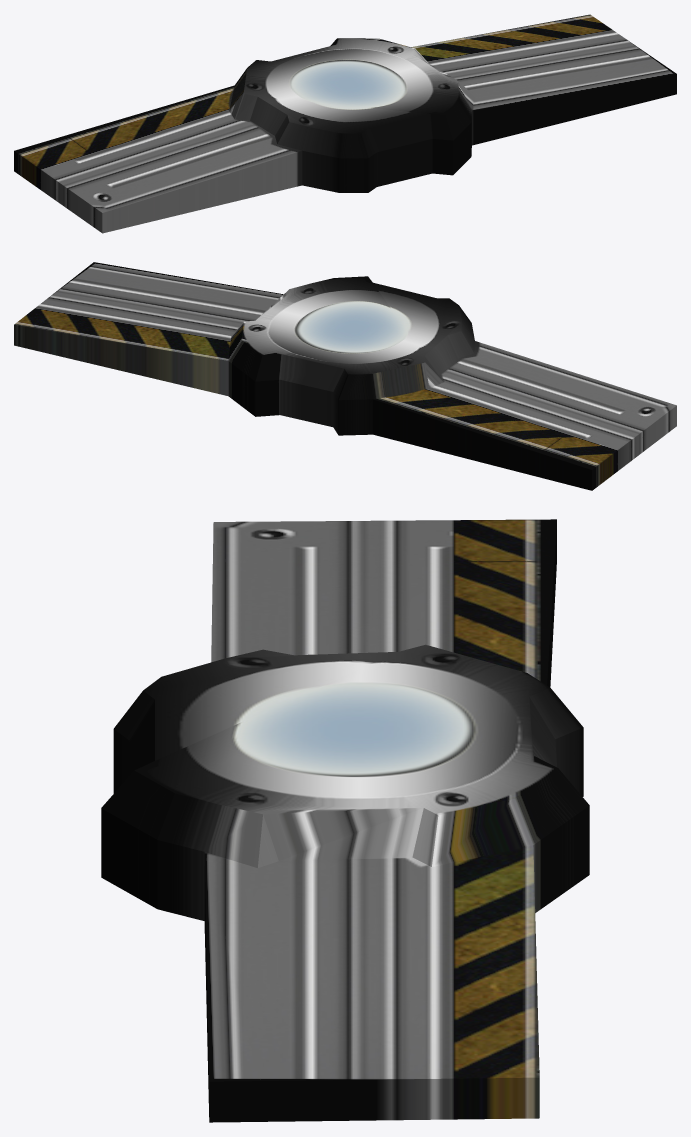
The model's file is light_6.FBX.
The picture shows the model from 3 angles, top to bottom: view 1: azimuth 30°, elevation 25°; view 2: azimuth 150°, elevation 25°; view 3: azimuth 270°, elevation 25°; orthographic projection. The views are drawn at different scales.
Parts seen in each view (by area): view 1: light_6; view 2: light_6; view 3: light_6.
Part boxes in pixels (x1=…): light_6: x1=14, y1=14, x2=676, y2=233; light_6: x1=14, y1=262, x2=676, y2=490; light_6: x1=101, y1=519, x2=589, y2=1122.
Bounding box in the file's own units: 69.04 × 6.17 × 25.36.
Materials: 1 (1 with a texture image).
